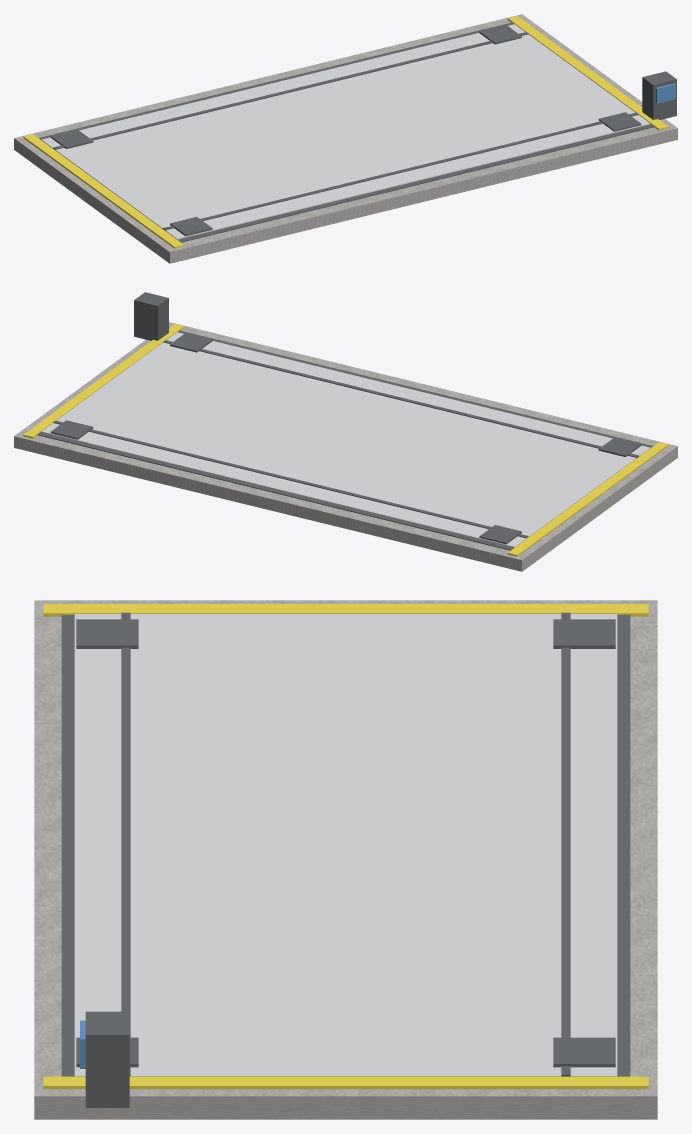
The model's file is recycling-and-waste-transfer-yard-recycling-and-waste--4f538b99__34910.glb.
The picture shows the model from 3 angles, top to bottom: view 1: azimuth 30°, elevation 25°; view 2: azimuth 150°, elevation 25°; view 3: azimuth 270°, elevation 25°; orthographic projection. The views are drawn at different scales.
Parts seen in each view (by area): view 1: recycling-and-waste-transfer-yard-weighbridge-plate; view 2: recycling-and-waste-transfer-yard-weighbridge-plate; view 3: recycling-and-waste-transfer-yard-weighbridge-plate.
Boxes of the visible parts, bbox=[...] form: recycling-and-waste-transfer-yard-weighbridge-plate: bbox=[14, 14, 677, 263]; recycling-and-waste-transfer-yard-weighbridge-plate: bbox=[14, 292, 677, 571]; recycling-and-waste-transfer-yard-weighbridge-plate: bbox=[34, 600, 657, 1119].
Bounding box in the file's own units: 6.55 × 0.5798 × 3.4.
5 materials, 1 textured.
